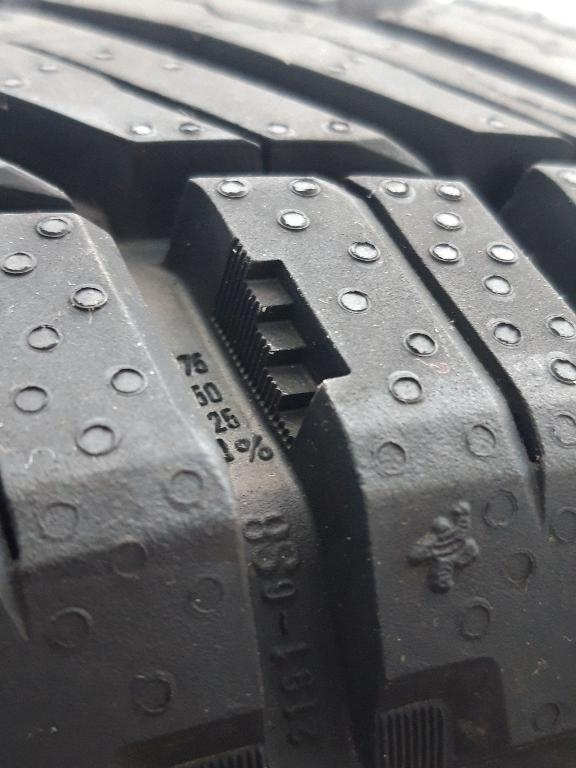temoin:100: (201, 228, 364, 466)
